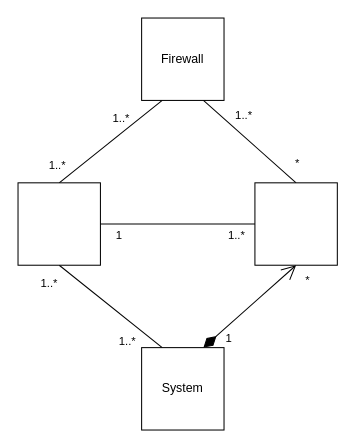
The diagram is 355 pixels wide and 448 high, and some of its shapes have lost their labels. Here are the shapes that lost their labels. From the top down, the centre of each, then its label:
[58,223]: Rule Set
[295,223]: Rule
